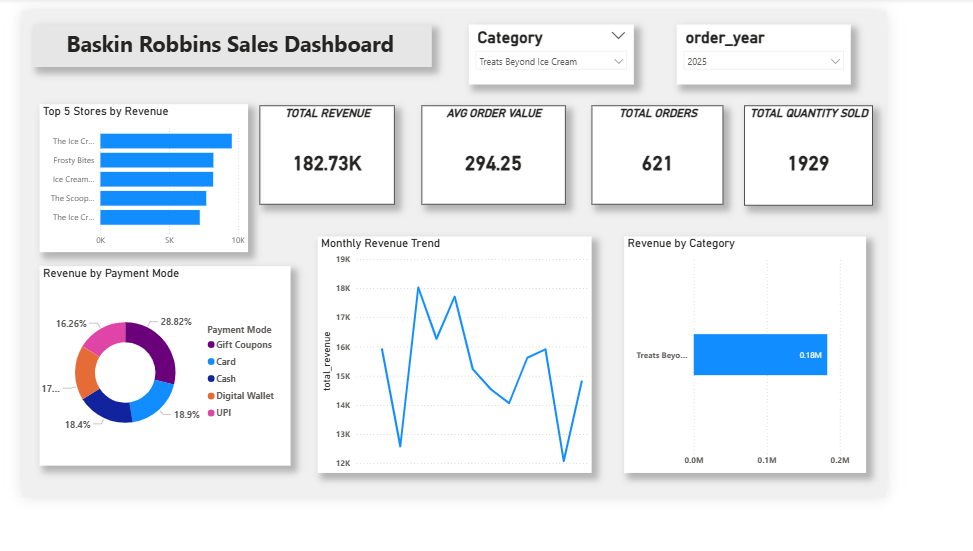

Layout of this report page (visuals, bound fields, positions):
{"tool":"powerbi","page":{"name":"Page 1","canvas":[1280,720],"ordinal":0},"visuals":[{"type":"textbox","box":[16.5,19.8,591.1,62.7],"z":0},{"type":"slicer","fields":{"Values":["Bills.order_year"]},"box":[970.8,19.8,257.6,89.2],"z":1},{"type":"slicer","fields":{"Values":["Bills.Category"]},"box":[662.1,19.8,244.4,89.2],"z":2},{"type":"card","title":"TOTAL REVENUE","fields":{"Values":["Bills.total_revenue"]},"box":[351.7,140.3,199.8,146.9],"z":3},{"type":"card","title":"TOTAL ORDERS","fields":{"Values":["Bills.total_orders"]},"box":[843.7,140.3,194.8,146.9],"z":4},{"type":"card","title":"AVG ORDER VALUE","fields":{"Values":["Bills.average_order_value"]},"box":[591.1,140.3,213,146.9],"z":5},{"type":"card","title":"TOTAL QUANTITY SOLD","fields":{"Values":["Bills.total_quantity_sold"]},"box":[1070,140,190,148],"z":6},{"type":"lineChart","title":"Monthly Revenue Trend","fields":{"Category":["Bills.Order_month"],"Y":["Bills.total_revenue"]},"box":[437.5,333.5,406.2,350],"z":7},{"type":"clusteredBarChart","title":"Revenue by Category","fields":{"Category":["Bills.Category"],"Y":["Bills.total_revenue"]},"box":[891.6,333.5,358.3,350],"z":8},{"type":"donutChart","title":"Revenue by Payment Mode","fields":{"Category":["Bills.Payment Mode"],"Y":["Bills.total_revenue"]},"box":[26.4,378.1,371.5,295.5],"z":9},{"type":"clusteredBarChart","title":"Top 5 Stores by Revenue","fields":{"Category":["Outlet.Store Name"],"Y":["Bills.total_revenue"]},"box":[26.4,138.7,308.7,219.6],"z":10}]}

Visuals, with their boxes in screenshot pixels (x1, y1, x2, y2), scaled from the page's 1280x720 canvas onto the 973x551 screenshot:
textbox: bbox=[13, 15, 462, 63]
slicer - Bills.order_year: bbox=[738, 15, 934, 83]
slicer - Bills.Category: bbox=[503, 15, 689, 83]
"TOTAL REVENUE" card: bbox=[267, 107, 419, 220]
"TOTAL ORDERS" card: bbox=[641, 107, 789, 220]
"AVG ORDER VALUE" card: bbox=[449, 107, 611, 220]
"TOTAL QUANTITY SOLD" card: bbox=[813, 107, 958, 220]
"Monthly Revenue Trend" lineChart: bbox=[333, 255, 641, 523]
"Revenue by Category" clusteredBarChart: bbox=[678, 255, 950, 523]
"Revenue by Payment Mode" donutChart: bbox=[20, 289, 302, 515]
"Top 5 Stores by Revenue" clusteredBarChart: bbox=[20, 106, 255, 274]
